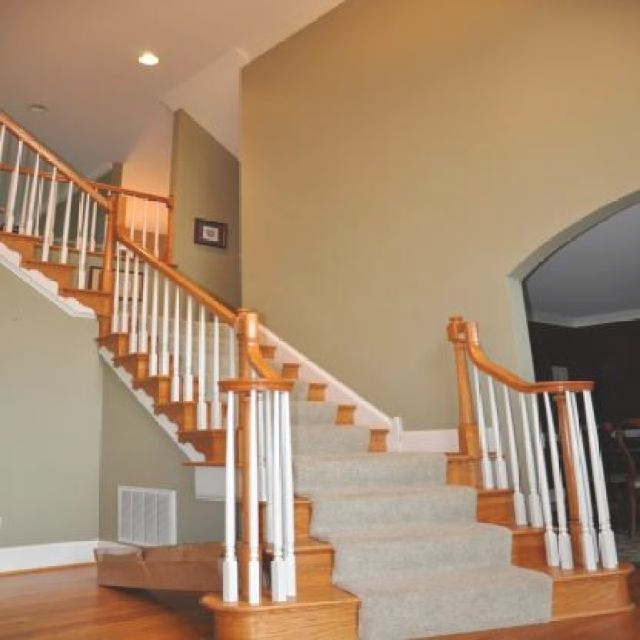stair: (0, 223, 640, 640)
